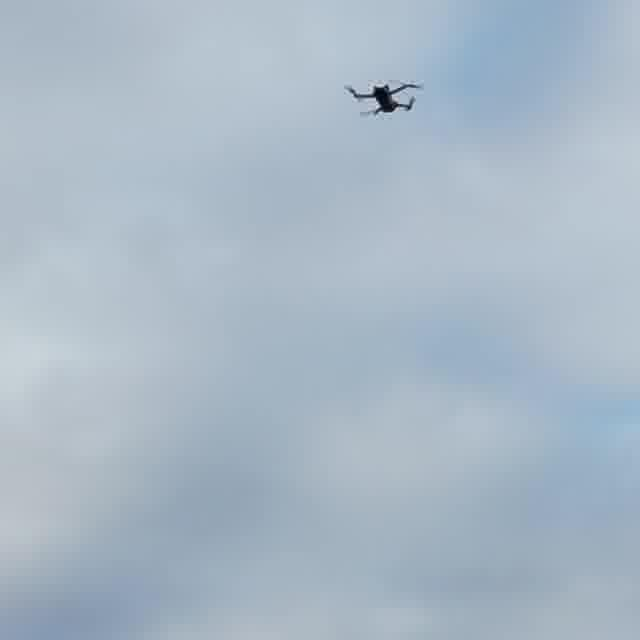Drohne: (345, 83, 422, 114)
